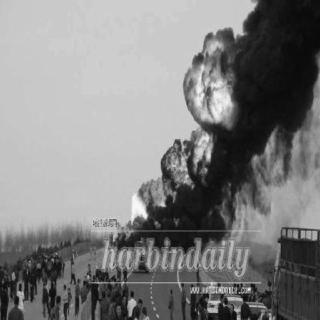other: (207, 298, 217, 310)
